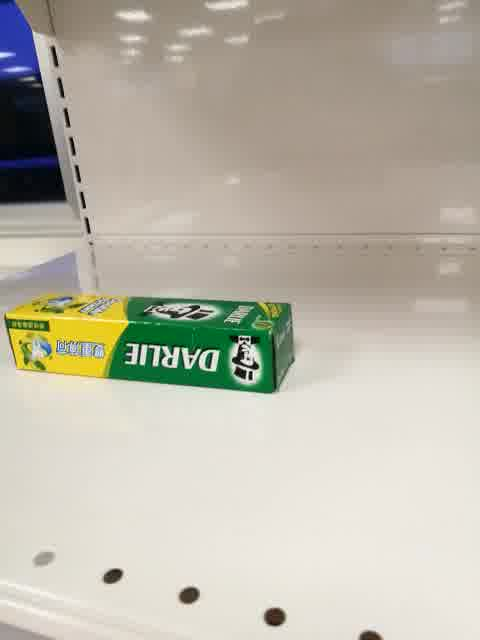toothpaste: (2, 292, 297, 394)
